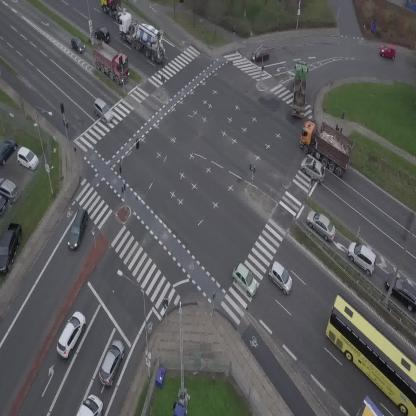car: (51, 309, 90, 360), (95, 337, 129, 388), (342, 237, 384, 277), (302, 205, 342, 243), (227, 261, 263, 298), (264, 259, 300, 295), (65, 207, 91, 251), (297, 154, 330, 184), (88, 96, 117, 125), (66, 34, 87, 57), (92, 25, 113, 44), (251, 46, 270, 61), (381, 44, 395, 59)
lorry: (290, 113, 362, 178), (108, 9, 175, 65), (84, 36, 138, 87), (290, 61, 309, 117), (76, 394, 103, 416)
